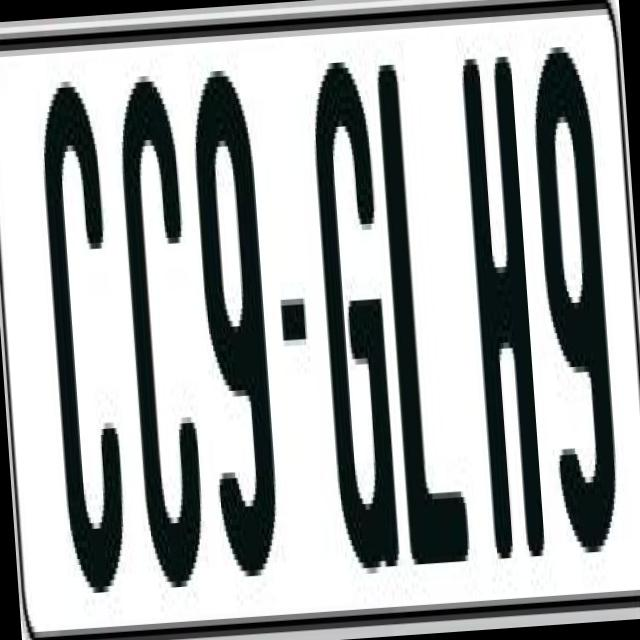9: (524, 33, 622, 542), (184, 64, 276, 572)
C: (33, 67, 133, 600), (113, 61, 207, 588)
G: (306, 54, 408, 564)
H: (458, 38, 550, 547)
L: (375, 49, 479, 554)
